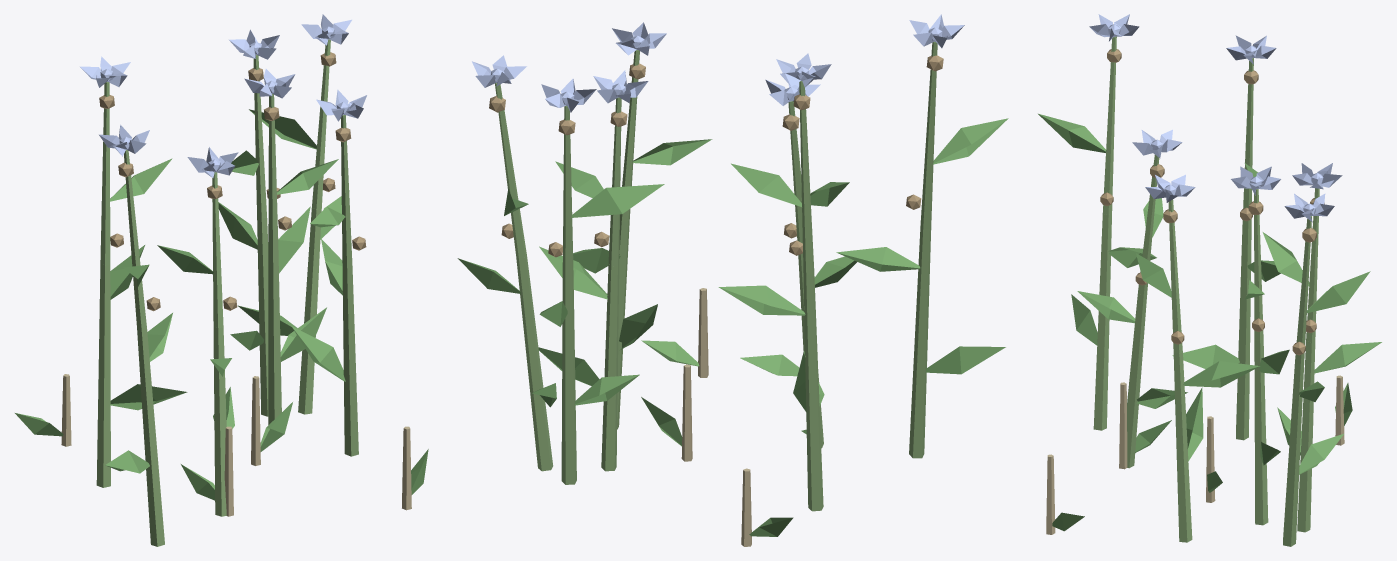
Rendered from plant-flax-a_lod1.glb.
3 views of the same model, side by side, from view 1: azimuth 30°, elevation 25°; view 2: azimuth 150°, elevation 25°; view 3: azimuth 270°, elevation 25° (orthographic). The views are drawn at different scales.
Visible parts, largest first — view 1: plant-flax-a_full_stemGreen, plant-flax-a_full_leafA, plant-flax-a_fruit_flaxFlower, plant-flax-a_low_stemDry, plant-flax-a_fruit_podBrown, plant-flax-a_low_leafA; view 2: plant-flax-a_full_stemGreen, plant-flax-a_full_leafA, plant-flax-a_fruit_flaxFlower, plant-flax-a_fruit_podBrown, plant-flax-a_low_stemDry, plant-flax-a_low_leafA; view 3: plant-flax-a_full_stemGreen, plant-flax-a_full_leafA, plant-flax-a_fruit_flaxFlower, plant-flax-a_low_stemDry, plant-flax-a_fruit_podBrown, plant-flax-a_low_leafA.
Part boxes in pixels (x1,y1,x2,y2): plant-flax-a_full_stemGreen: (96, 39, 358, 546); plant-flax-a_full_leafA: (105, 109, 349, 473); plant-flax-a_fruit_flaxFlower: (80, 14, 366, 177); plant-flax-a_low_stemDry: (61, 374, 411, 516); plant-flax-a_fruit_podBrown: (99, 52, 366, 311); plant-flax-a_low_leafA: (15, 402, 428, 500); plant-flax-a_full_stemGreen: (495, 41, 937, 511); plant-flax-a_full_leafA: (457, 118, 1008, 411); plant-flax-a_fruit_flaxFlower: (472, 14, 964, 112); plant-flax-a_fruit_podBrown: (489, 55, 943, 257); plant-flax-a_low_stemDry: (681, 288, 751, 546); plant-flax-a_low_leafA: (641, 340, 806, 536); plant-flax-a_full_stemGreen: (1093, 36, 1319, 546); plant-flax-a_full_leafA: (1038, 113, 1381, 474); plant-flax-a_fruit_flaxFlower: (1089, 14, 1342, 222); plant-flax-a_low_stemDry: (1046, 375, 1344, 534); plant-flax-a_fruit_podBrown: (1100, 49, 1324, 355); plant-flax-a_low_leafA: (1052, 383, 1352, 531).
Size of the model in its own units: 0.9838 by 1.03 by 0.8113.
